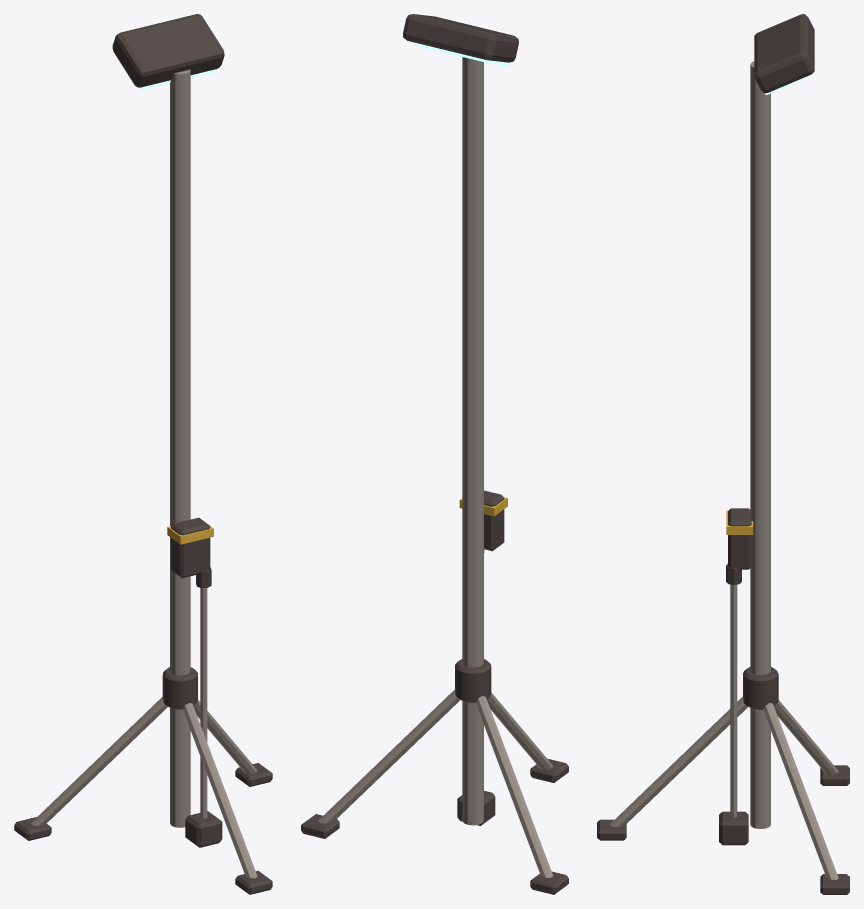
File: prop_lamp.glb
The picture shows the model from 3 angles, left to right: view 1: azimuth 30°, elevation 25°; view 2: azimuth 150°, elevation 25°; view 3: azimuth 270°, elevation 25°; orthographic projection. The views are drawn at different scales.
Visible parts, largest first — view 1: mast-convcol, housing, leg2, leg1, junction, port_1_conduit, collar, port_1_box-col, leg0, pad2, pad1, pad0; view 2: mast-convcol, housing, leg1, leg0, collar, leg2, junction, pad1, pad0, pad2; view 3: mast-convcol, housing, leg0, leg2, port_1_conduit, collar, junction, leg1, port_1_box-col, pad0, pad2.
Part boxes in pixels (box(x1,y1,x2,y2)): mast-convcol: box(170, 69, 190, 827); housing: box(112, 14, 224, 87); leg2: box(182, 703, 257, 878); leg1: box(30, 697, 167, 825); junction: box(171, 517, 210, 578); port_1_conduit: box(200, 588, 207, 818); collar: box(162, 667, 197, 709); port_1_box-col: box(185, 811, 222, 847); leg0: box(193, 700, 257, 774); pad2: box(235, 870, 272, 894); pad1: box(14, 817, 51, 840); pad0: box(235, 763, 272, 786); mast-convcol: box(462, 57, 483, 825); housing: box(403, 14, 518, 62); leg1: box(475, 695, 552, 877); leg0: box(318, 689, 459, 823); collar: box(455, 659, 491, 702); leg2: box(487, 692, 552, 770); junction: box(484, 490, 504, 551); pad1: box(530, 871, 568, 894); pad0: box(301, 814, 339, 838); pad2: box(530, 758, 568, 782); mast-convcol: box(750, 61, 770, 828); housing: box(754, 14, 814, 93); leg0: box(763, 702, 838, 879); leg2: box(609, 697, 747, 827); port_1_conduit: box(730, 584, 737, 817); collar: box(743, 667, 778, 709); junction: box(728, 508, 751, 569); leg1: box(774, 700, 838, 775); port_1_box-col: box(719, 811, 748, 845); pad0: box(820, 874, 849, 894); pad2: box(597, 819, 626, 840).
Size of the model in its own units: 0.966 by 2.98 by 0.85.
